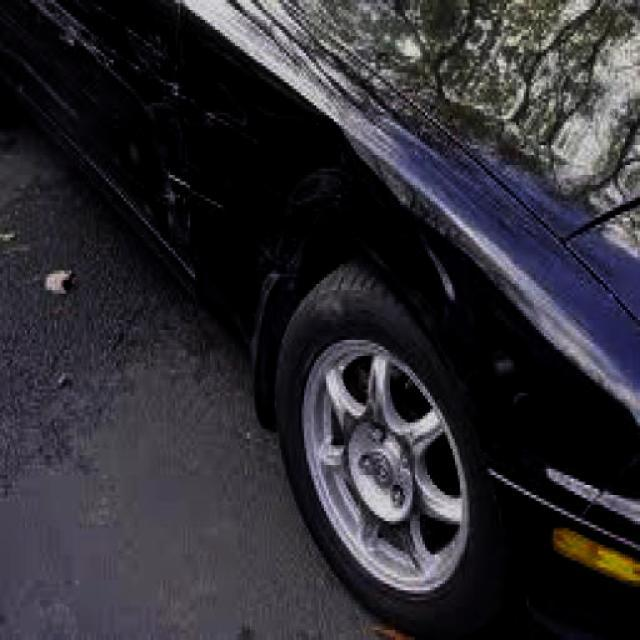car damage: (154, 162, 238, 277)
